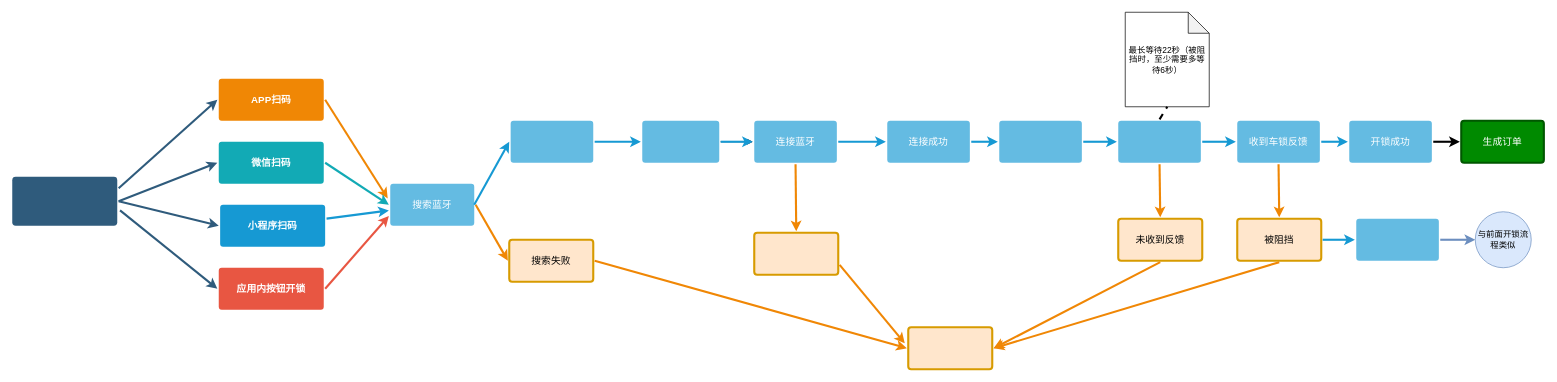
Some shapes in this 1557 by 382 pixel diagram are drawn without their labels. The box of each missing label's shape, as (x1, y1, x2, y2) in pixels:
共享车位: (12, 176, 117, 225)
发送开锁指令: (999, 120, 1082, 162)
开锁失败: (907, 326, 993, 370)
提示关锁清异物: (1356, 218, 1438, 260)
搜索成功: (510, 120, 593, 162)
等待车锁反馈: (1118, 120, 1200, 162)
请求蓝牙指令: (642, 120, 719, 162)
连接失败: (753, 231, 839, 275)
